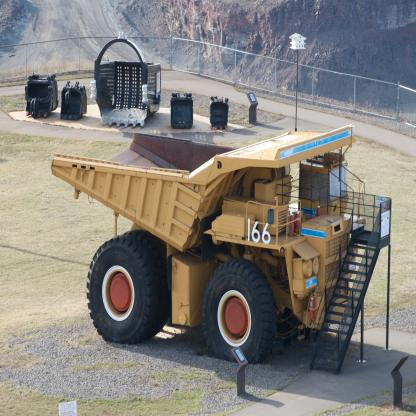dump_truck: (51, 98, 406, 397)
